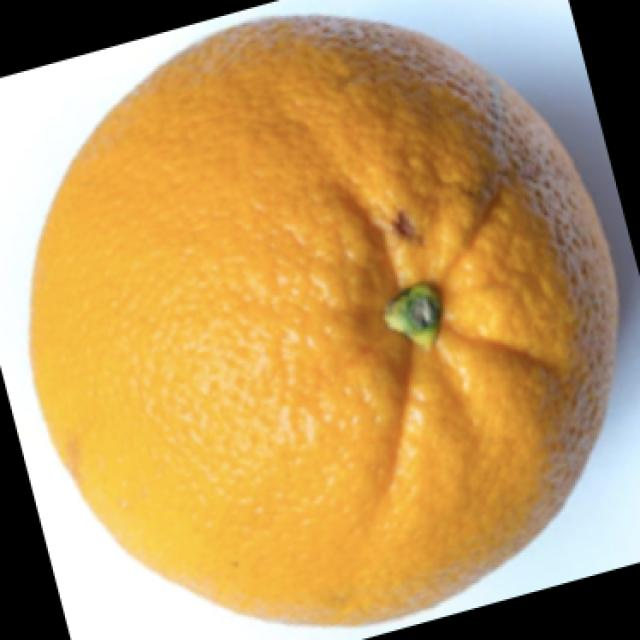matang: (40, 22, 608, 623)
